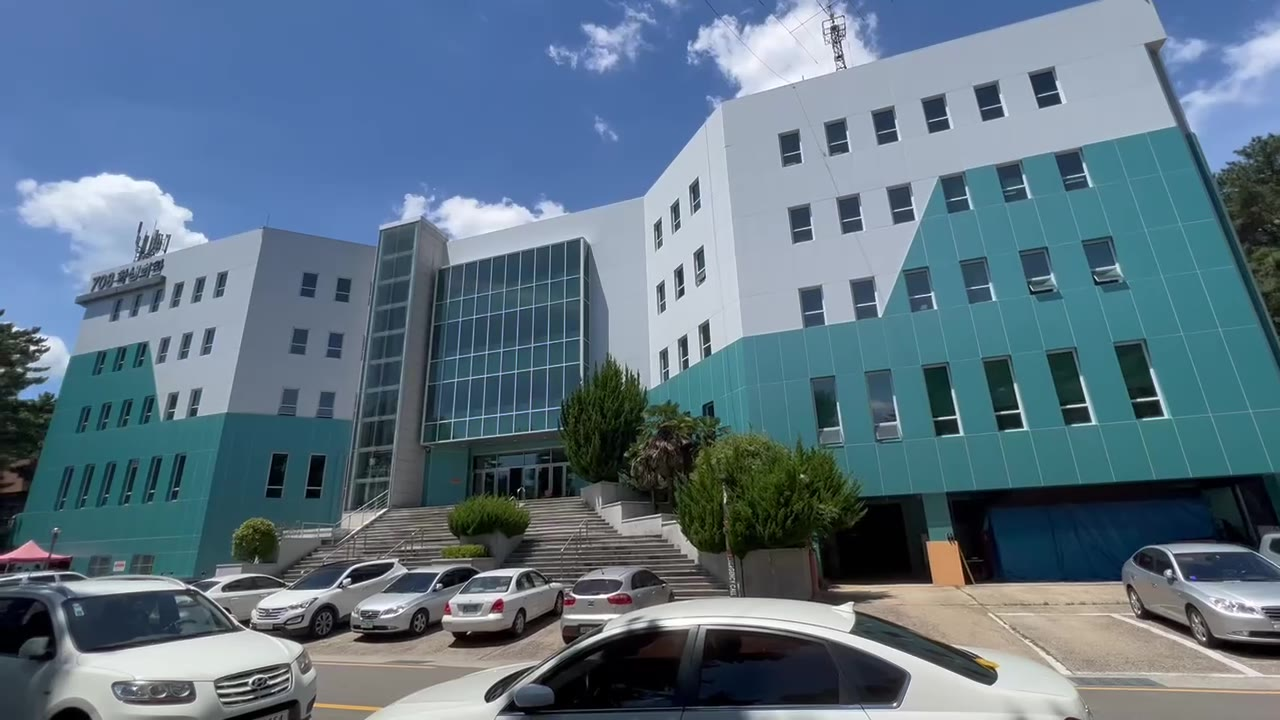medium: (109, 44, 1280, 483)
